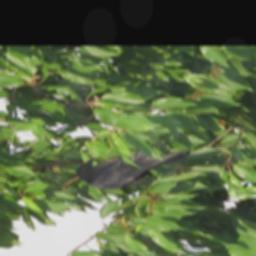Crow: (68, 122, 193, 206)
